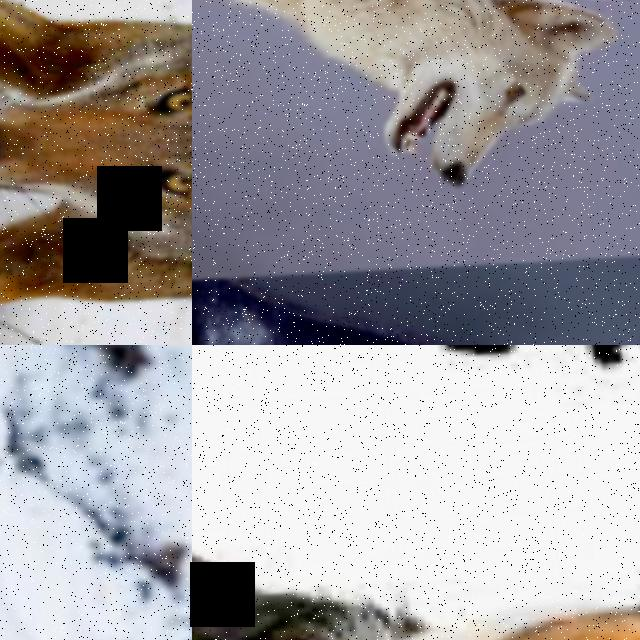dog: (192, 345, 640, 640)
wolf: (229, 0, 634, 228), (192, 171, 640, 345), (0, 0, 192, 345), (192, 0, 640, 132), (0, 554, 192, 640)
